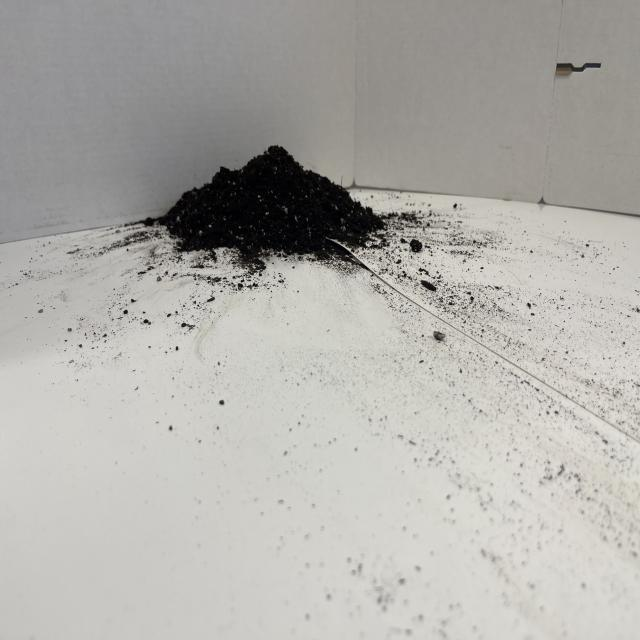soil: (146, 142, 387, 262)
